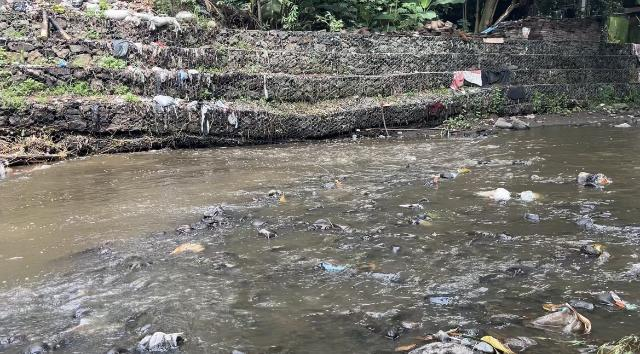Sampah Anorganik: (527, 303, 595, 341), (572, 168, 610, 189), (605, 293, 637, 310), (317, 260, 350, 275), (474, 191, 508, 199), (397, 202, 426, 210), (519, 189, 534, 200), (456, 166, 470, 174)
Sampah Organik: (394, 326, 504, 354), (418, 210, 450, 228), (167, 241, 209, 254), (361, 262, 390, 280), (587, 242, 605, 252), (176, 225, 191, 233), (334, 181, 343, 188), (279, 197, 287, 202), (434, 178, 437, 182)
